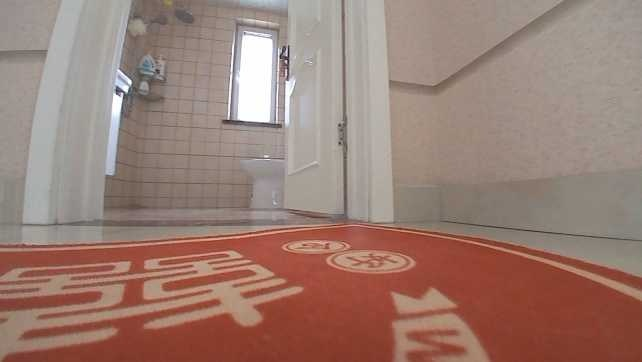blanket: (0, 225, 641, 360)
door_anno: (277, 0, 396, 224)
toilet: (240, 155, 282, 211)
